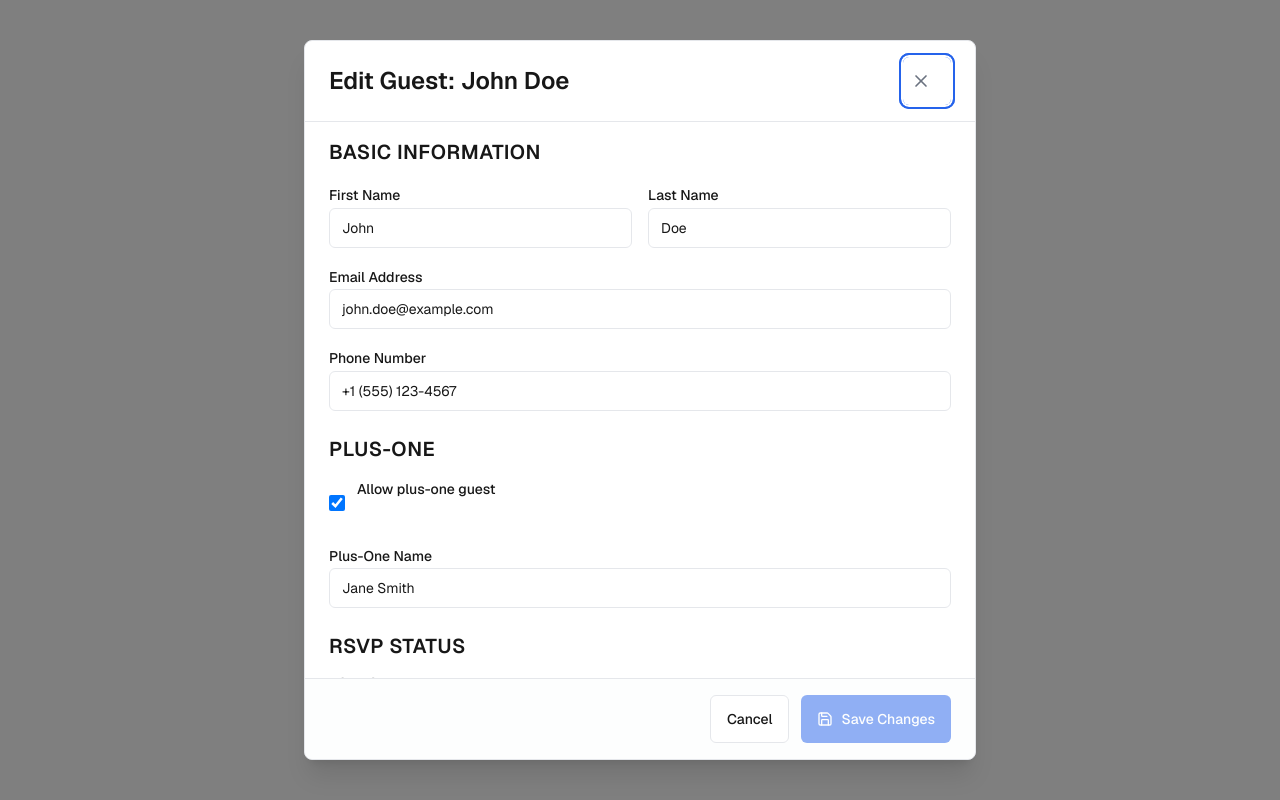
Test: EditGuestModal › enables save button when changes are made
The width and height of the screenshot is (1280, 800).
Expected: the button "Save Changes" is disabled, [801,695,951,743]
Type "ny" into the field labelled "First Name" at (480, 228), box [329,208,632,248]
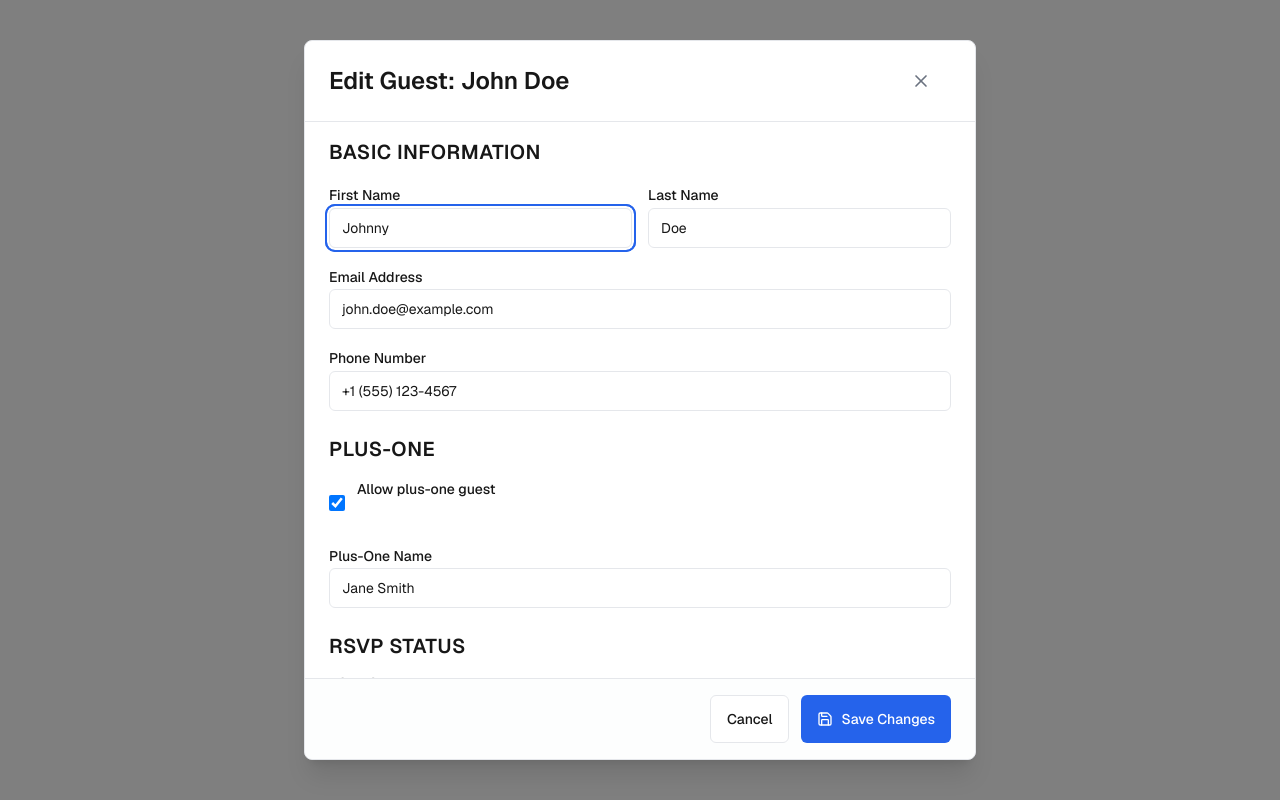
Result: the button "Save Changes" is enabled at [801,695,951,743]
